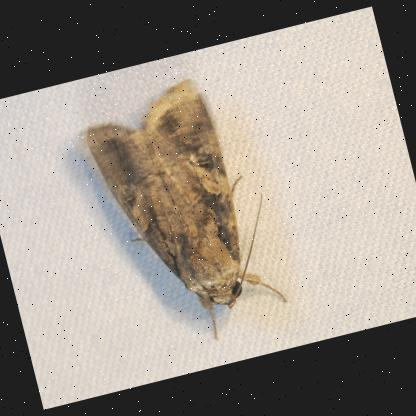Fall Armyworm Moth: (66, 66, 296, 364)
